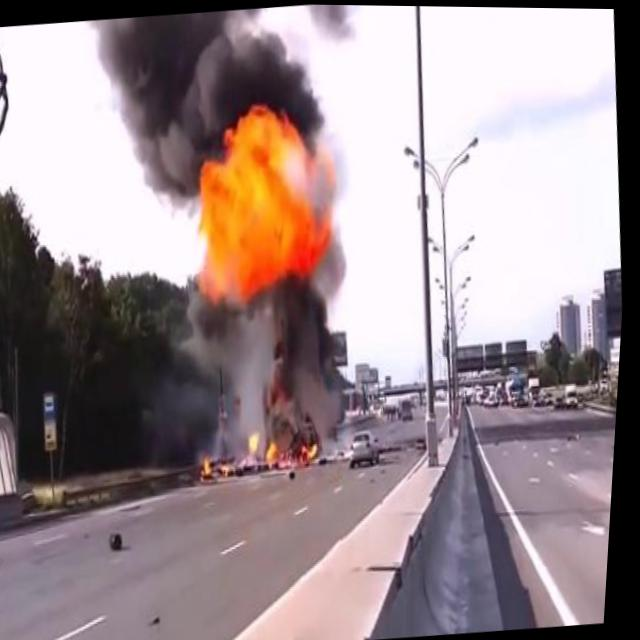fire: (171, 88, 349, 316), (242, 421, 330, 480), (203, 448, 240, 484)
